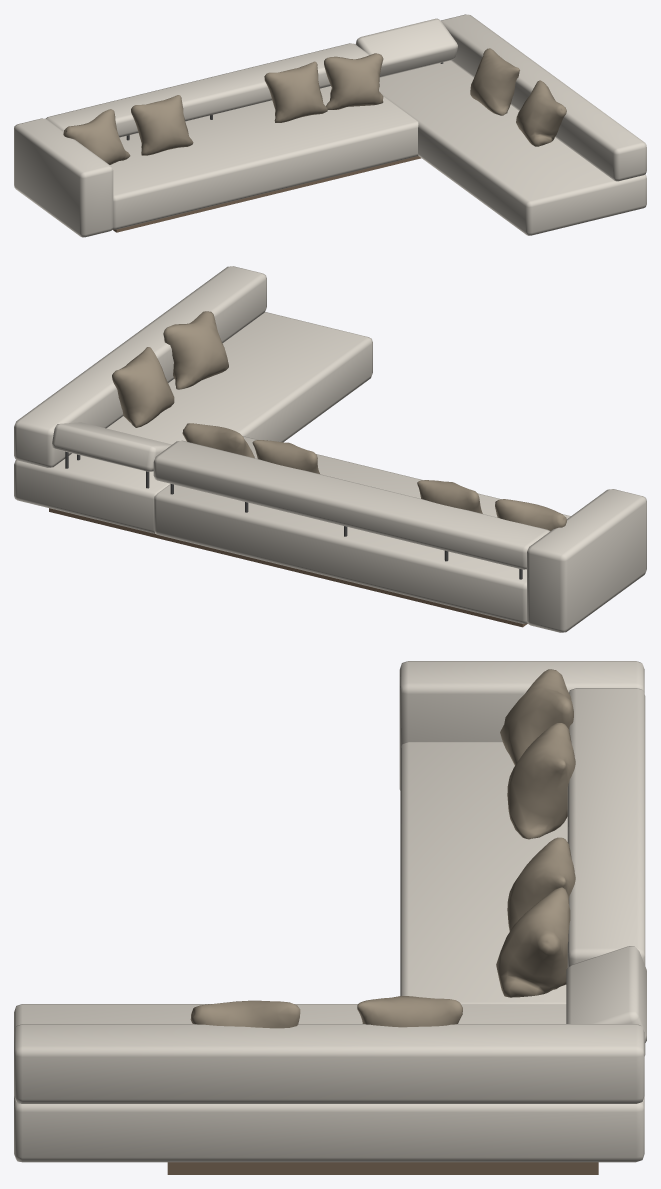
3 views of the same model, one above another, from view 1: azimuth 30°, elevation 25°; view 2: azimuth 150°, elevation 25°; view 3: azimuth 270°, elevation 25° (orthographic). The views are drawn at different scales.
Parts seen in each view (by area): view 1: CouchAndCushions; view 2: CouchAndCushions; view 3: CouchAndCushions.
Boxes of the visible parts, x1,y1,x2,y2 form: CouchAndCushions: (14, 14, 646, 237); CouchAndCushions: (14, 266, 646, 632); CouchAndCushions: (14, 661, 646, 1174).
Size of the model in its own units: 3.5 by 0.6721 by 2.38.
